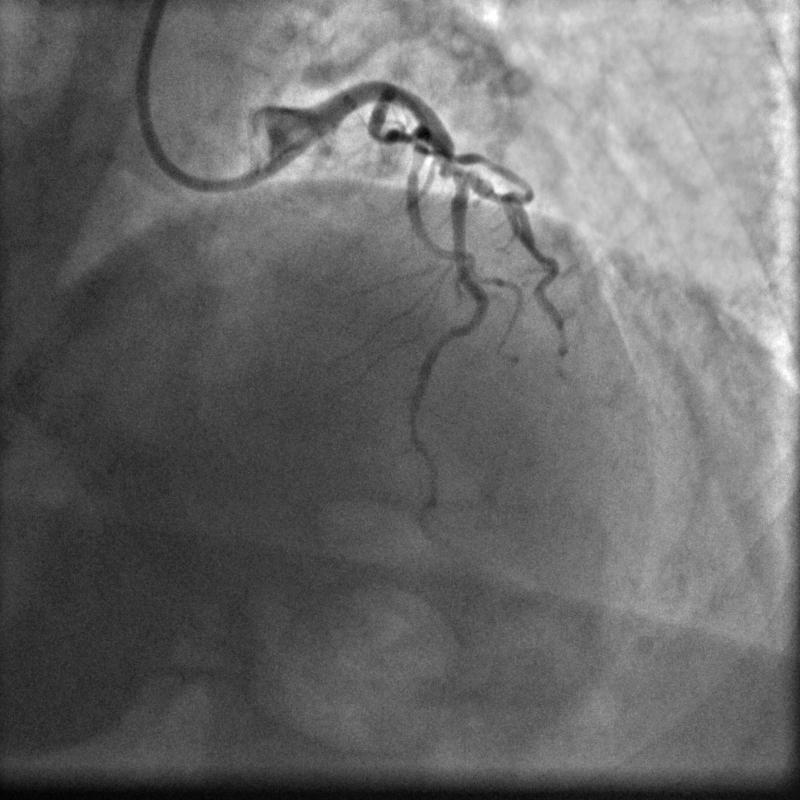Stenosis: (433, 152, 466, 178)
